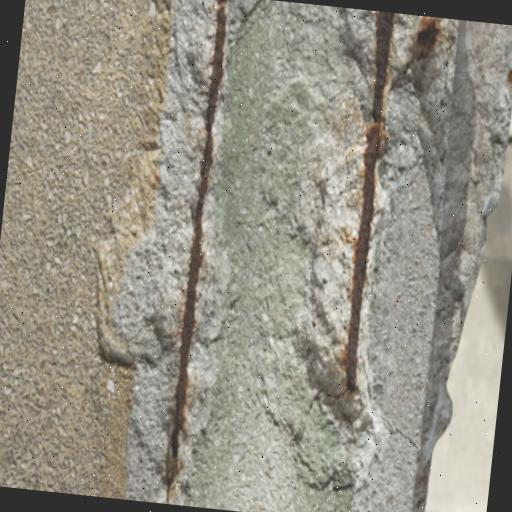spalling: (242, 2, 448, 480), (93, 0, 269, 499)
